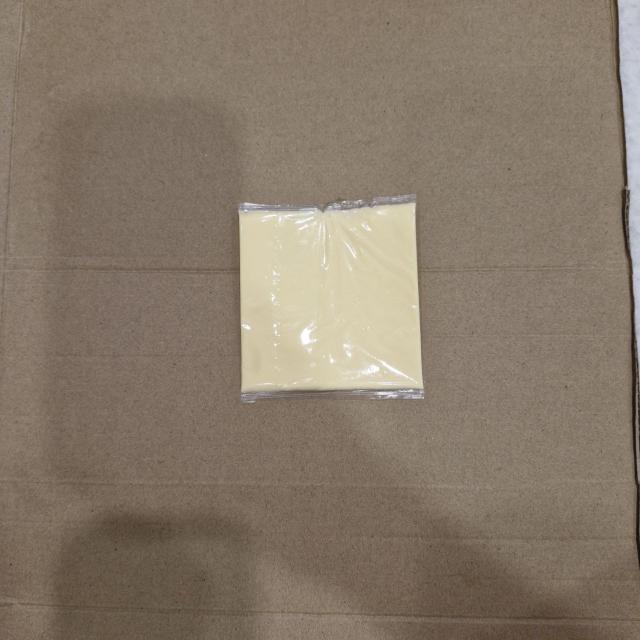food_waste: (238, 198, 418, 404)
plastic: (232, 193, 430, 407)
